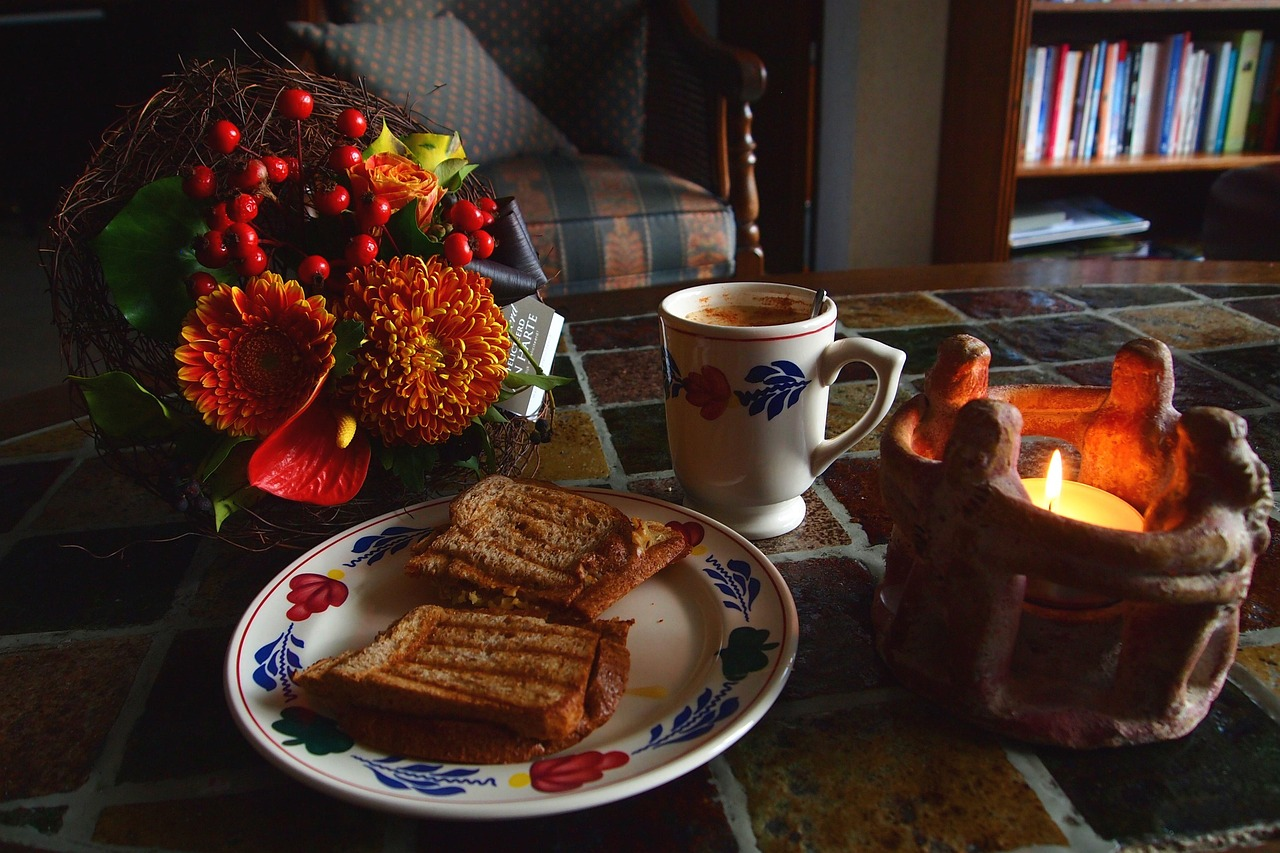mug: (622, 260, 927, 582)
